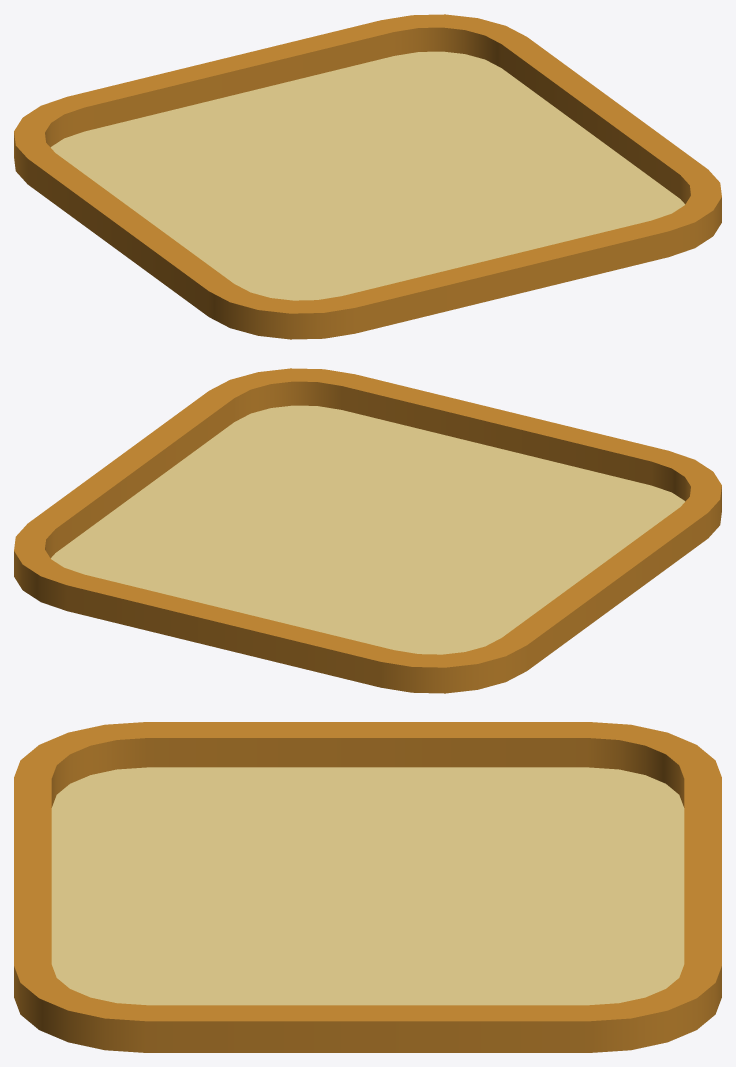
Rendered from reserve.glb.
3 renders of one model, top to bottom at view 1: azimuth 30°, elevation 25°; view 2: azimuth 150°, elevation 25°; view 3: azimuth 270°, elevation 25°, orthographic. The views are drawn at different scales.
Visible parts, largest first — view 1: ReserveCenter.002, ResrveBorder.002; view 2: ReserveCenter.002, ResrveBorder.002; view 3: ReserveCenter.002, ResrveBorder.002.
Part boxes in pixels (left/top/right/bottom): ReserveCenter.002: left=50, top=51, right=684, bottom=300; ResrveBorder.002: left=14, top=14, right=721, bottom=339; ReserveCenter.002: left=51, top=405, right=685, bottom=654; ResrveBorder.002: left=14, top=368, right=721, bottom=693; ReserveCenter.002: left=51, top=767, right=684, bottom=1005; ResrveBorder.002: left=14, top=722, right=721, bottom=1052.
Bounding box in the file's own units: 0.5733 × 0.0284 × 0.5733.
